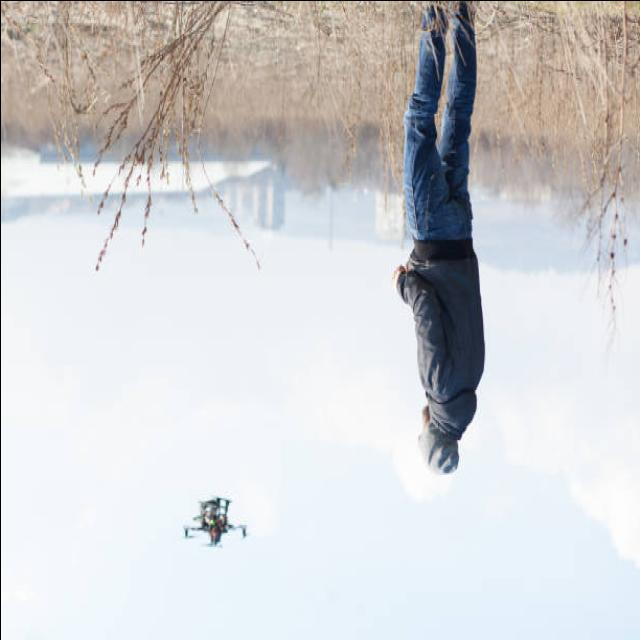drone: (183, 497, 247, 549)
